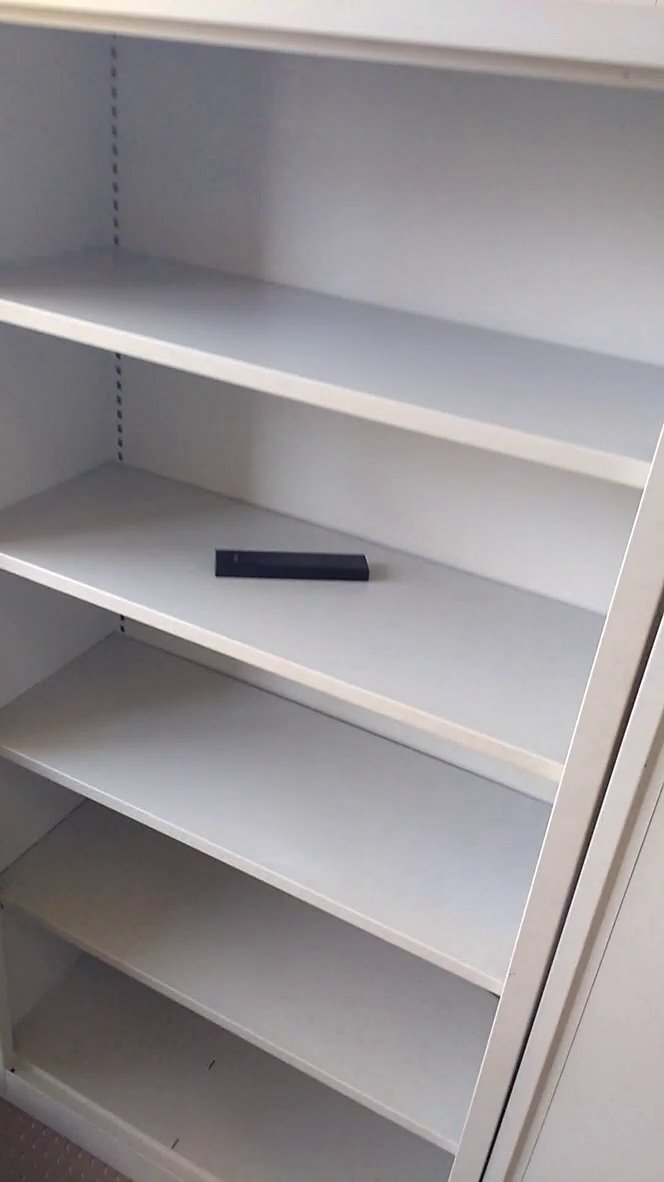remote: (209, 542, 377, 595)
